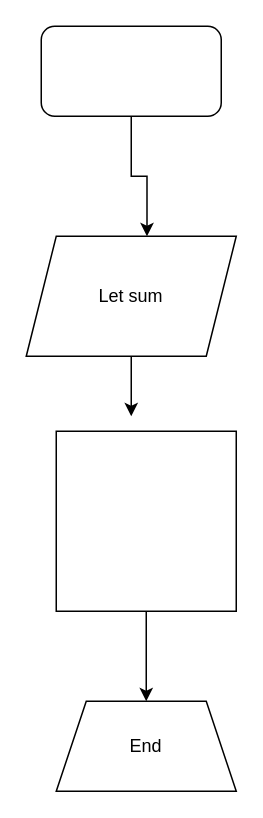
The diagram is 263 pixels wide and 818 high, and some of its shapes have lost their labels. Each missing label, with the centre of its shape:
"array.length return sum" goes at (x=145, y=520).
"Staart" goes at (x=130, y=70).
